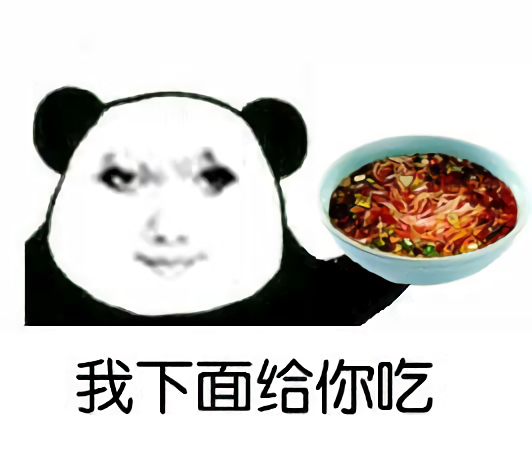dragon: (101, 151, 246, 279)
